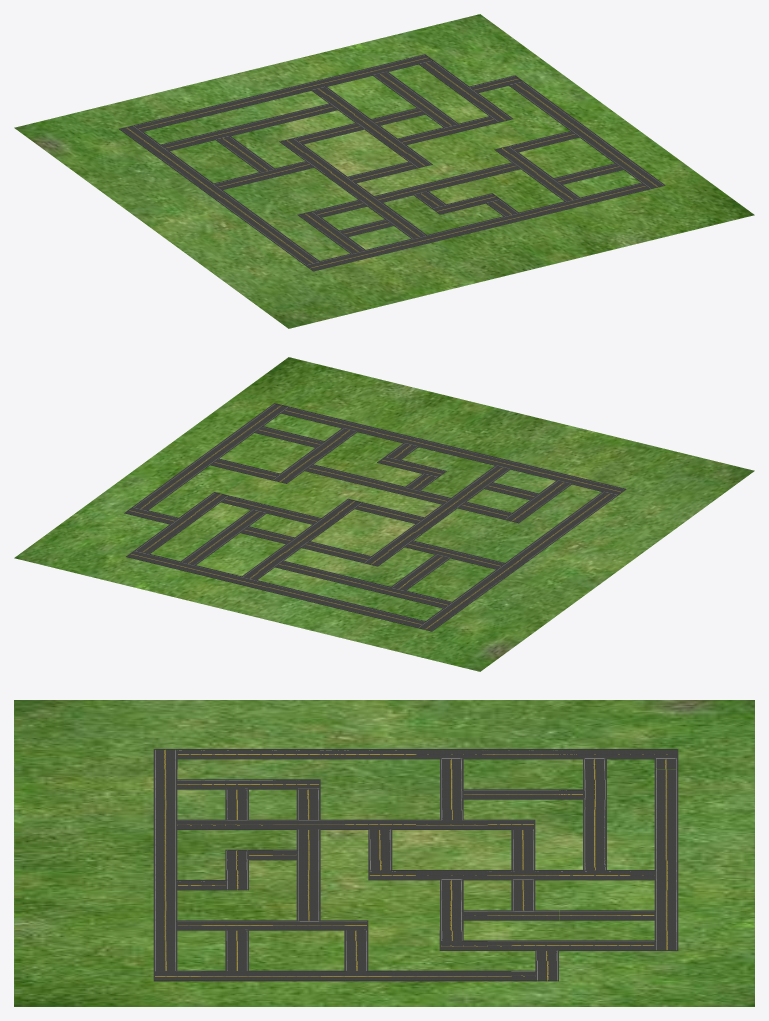
Rendered from map_image.glb.
The picture shows the model from 3 angles, top to bottom: view 1: azimuth 30°, elevation 25°; view 2: azimuth 150°, elevation 25°; view 3: azimuth 270°, elevation 25°; orthographic projection. The views are drawn at different scales.
Parts seen in each view (by area): view 1: Plane_Grass, Plane_Road; view 2: Plane_Grass, Plane_Road; view 3: Plane_Grass, Plane_Road.
Part boxes in pixels (x1,y1,x2,y2): Plane_Grass: (14,14,754,328); Plane_Road: (119,54,665,271); Plane_Grass: (14,357,754,671); Plane_Road: (124,403,626,631); Plane_Grass: (14,700,754,1006); Plane_Road: (153,749,678,981).
Bounding box in the file's own units: 609 × 1.35 × 621.
178 materials, 178 textured.
